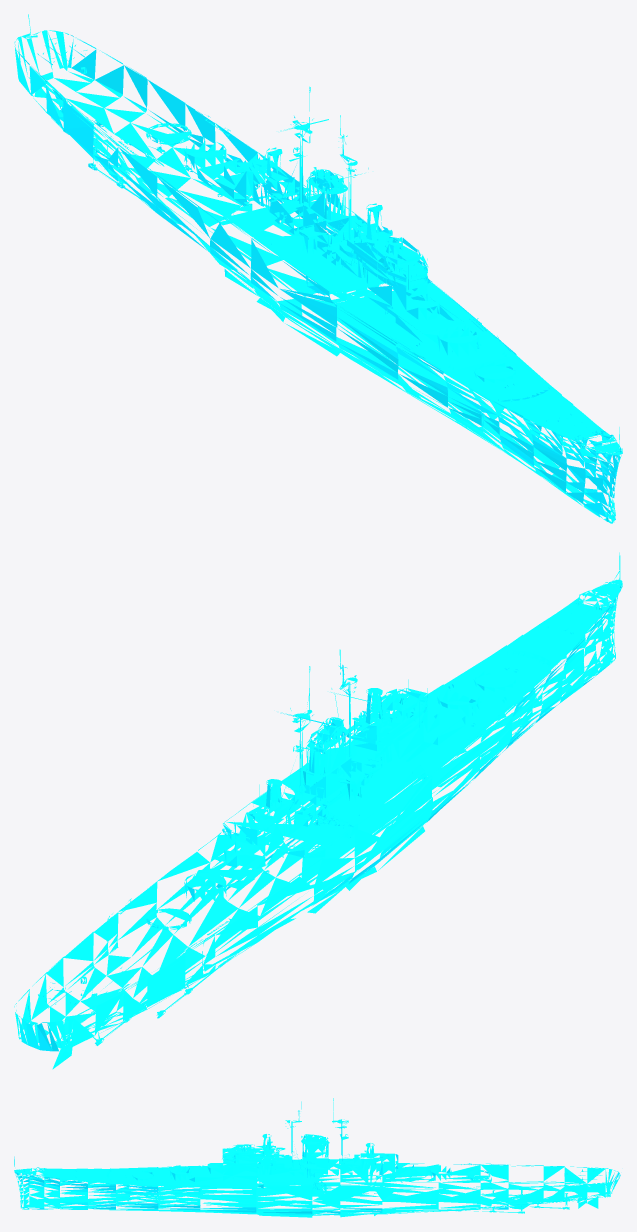
File: Annapolis.glb
3 views of the same model, one above another, from view 1: azimuth 30°, elevation 25°; view 2: azimuth 150°, elevation 25°; view 3: azimuth 270°, elevation 25° (orthographic). The views are drawn at different scales.
Bounding box in the file's own units: 1.61 × 3.18 × 15.83.
